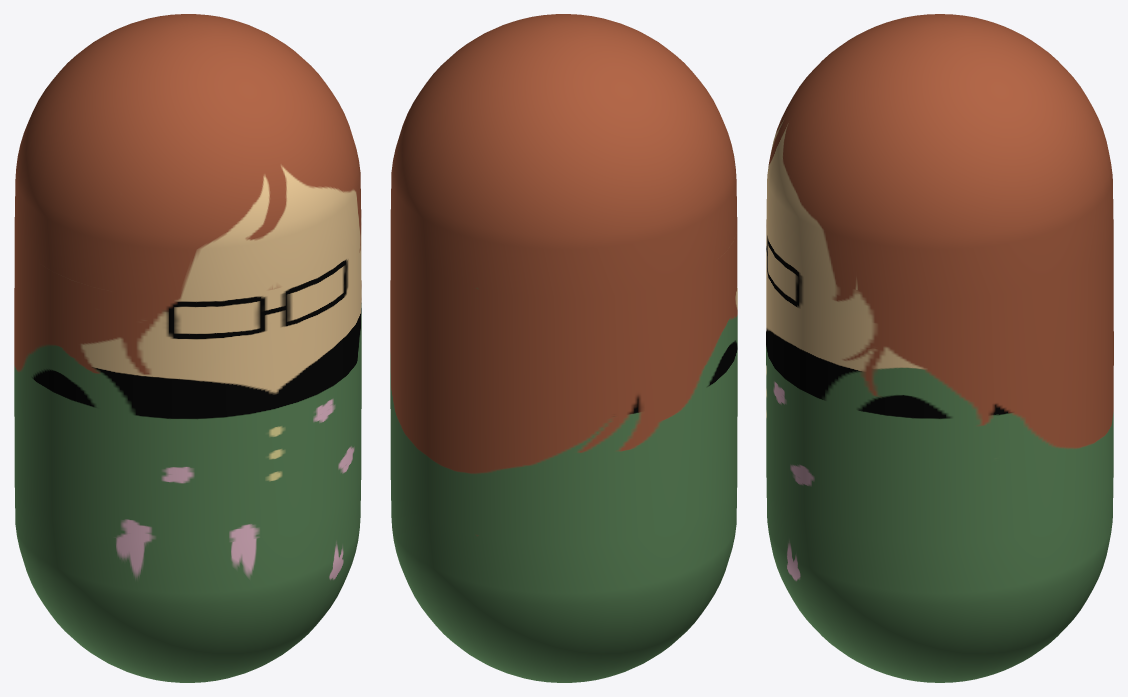
The model's file is capsuleGirl1.fbx.
3 views of the same model, side by side, from view 1: azimuth 30°, elevation 25°; view 2: azimuth 150°, elevation 25°; view 3: azimuth 270°, elevation 25° (orthographic).
Visible parts, largest first — view 1: pCylinder3; view 2: pCylinder3; view 3: pCylinder3.
Boxes of the visible parts, left/top/right/bottom form: pCylinder3: left=14, top=14, right=361, bottom=682; pCylinder3: left=390, top=14, right=737, bottom=682; pCylinder3: left=766, top=14, right=1113, bottom=682.
Size of the model in its own units: 1.98 by 4 by 1.98.
